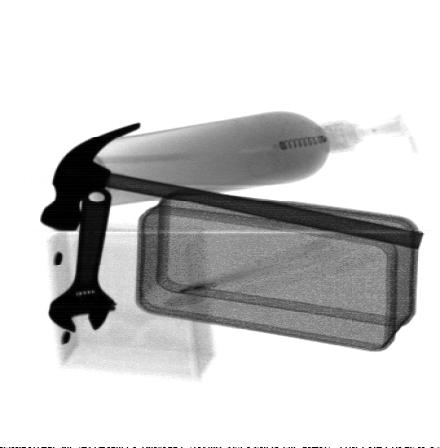Hammer: (38, 121, 422, 250)
Wrench: (47, 186, 117, 333)
